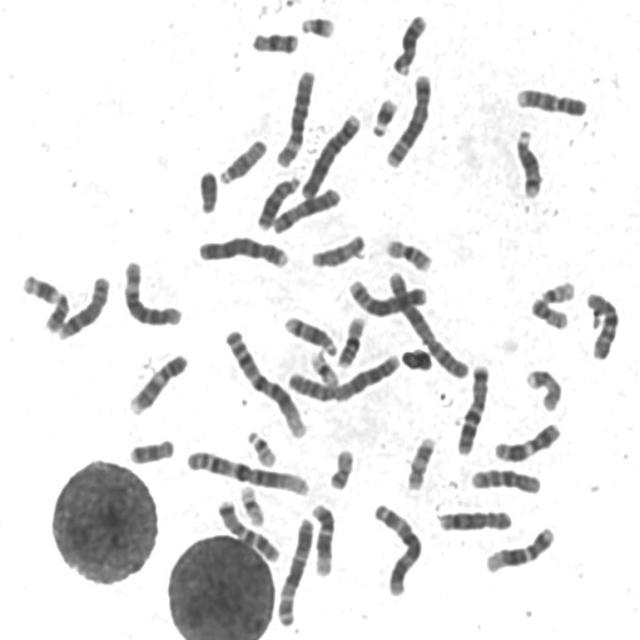A1: (220, 324, 308, 440), (182, 443, 312, 498)
A2: (382, 264, 472, 380), (282, 348, 403, 404)
A3: (369, 496, 425, 597), (272, 512, 316, 628)
B4: (296, 108, 363, 201), (192, 230, 292, 269)
B5: (381, 67, 435, 170), (346, 274, 428, 318)
C10: (581, 286, 622, 362), (466, 462, 543, 496)
C11: (489, 416, 564, 464), (16, 268, 70, 334)
C12: (480, 520, 557, 574), (307, 498, 337, 578)
C6: (270, 63, 318, 169), (118, 255, 185, 328)
C7: (212, 494, 282, 564), (452, 358, 492, 457)
C8: (54, 270, 112, 342), (433, 504, 514, 533)
C9: (124, 347, 190, 417), (512, 81, 590, 118)
D13: (251, 169, 303, 233), (388, 7, 429, 77)
D14: (279, 310, 339, 358), (510, 122, 544, 200)
D15: (214, 133, 270, 186), (306, 228, 368, 269)
E16: (380, 232, 434, 273), (332, 310, 369, 368)
E17: (402, 430, 438, 492), (521, 362, 563, 413)
E18: (124, 432, 176, 466), (247, 26, 301, 56)
F19: (235, 478, 267, 528), (306, 344, 342, 388)
F20: (525, 291, 571, 331), (325, 443, 356, 492)
G21: (367, 91, 400, 138), (296, 10, 338, 40)
G22: (242, 424, 279, 468), (536, 275, 578, 305)
X: (267, 181, 342, 235)
Y: (194, 164, 220, 215)
